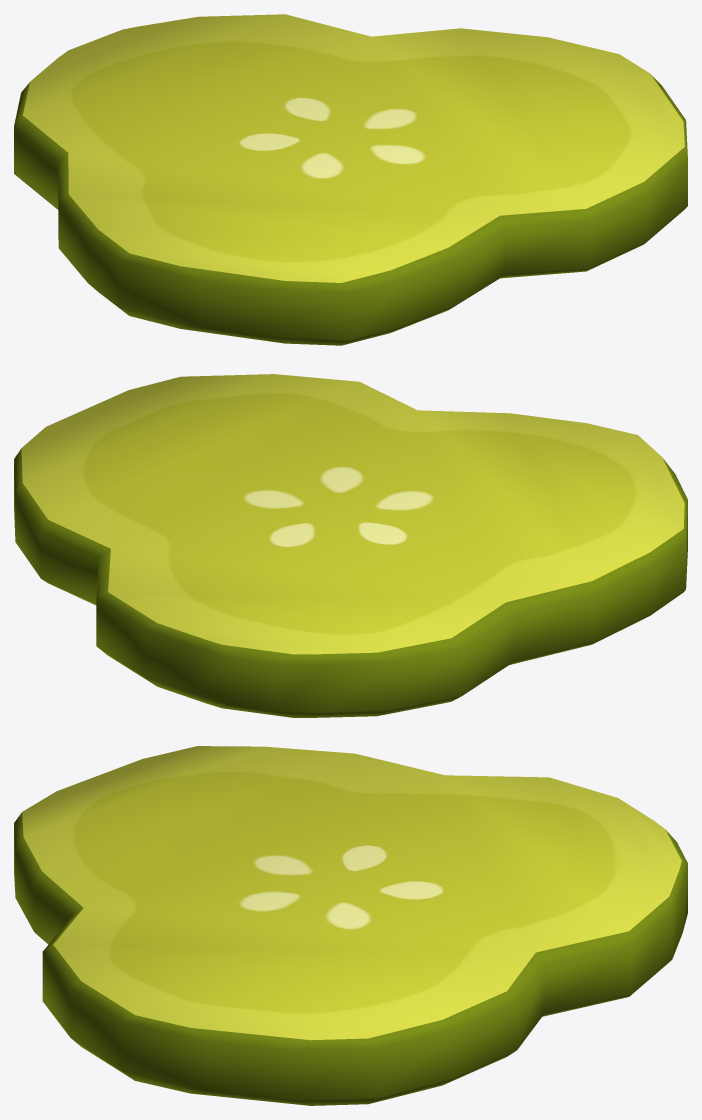
Rendered from Pickle.fbx.
The picture shows the model from 3 angles, top to bottom: view 1: azimuth 30°, elevation 25°; view 2: azimuth 150°, elevation 25°; view 3: azimuth 270°, elevation 25°; orthographic projection. The views are drawn at different scales.
Parts seen in each view (by area): view 1: Pickle; view 2: Pickle; view 3: Pickle.
Boxes of the visible parts, box(x1,y1,x2,y2) form: Pickle: box(14, 14, 687, 345); Pickle: box(14, 374, 687, 717); Pickle: box(14, 746, 687, 1105).
Bounding box in the file's own units: 87.48 × 8.95 × 83.17.
